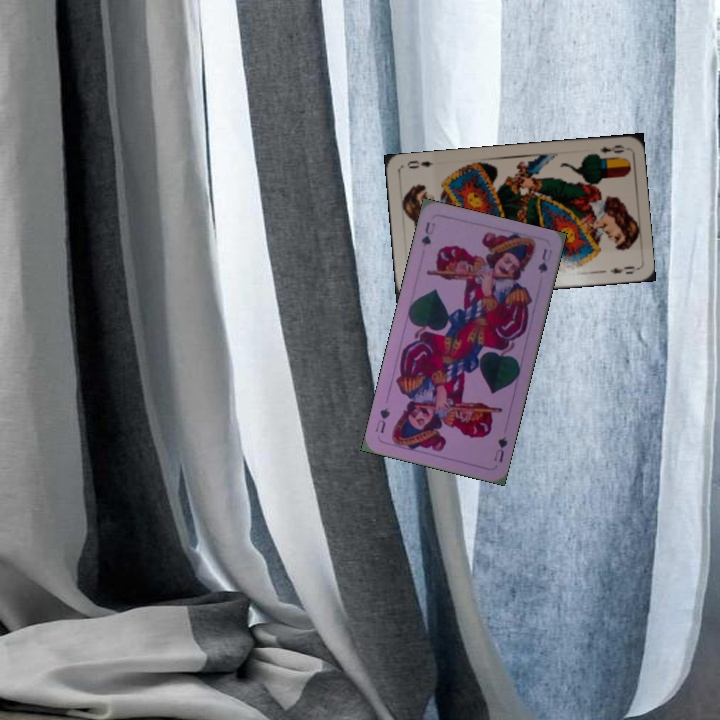EO: (596, 141, 627, 156)
GU: (417, 218, 438, 249), (490, 433, 510, 465)
